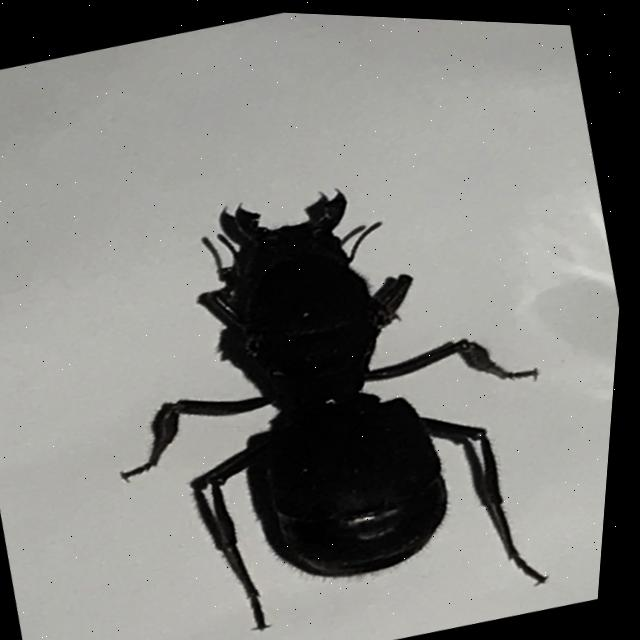Alive-Female-Dealate: (55, 130, 608, 640)
